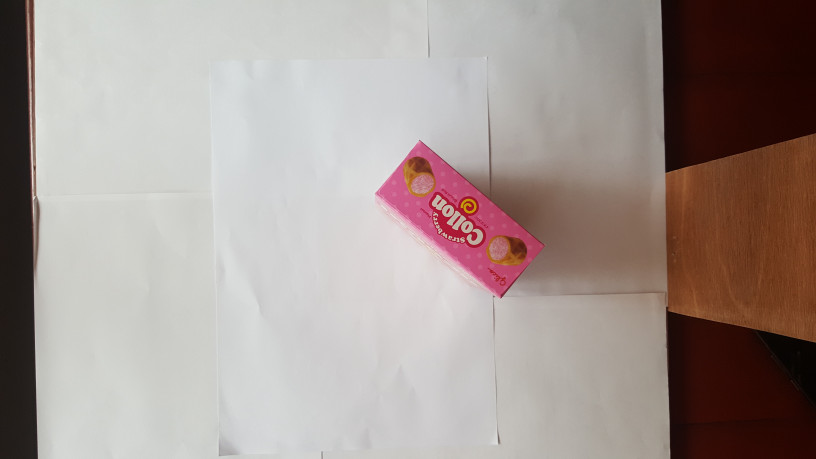collon-strawberry: (372, 140, 547, 304)
